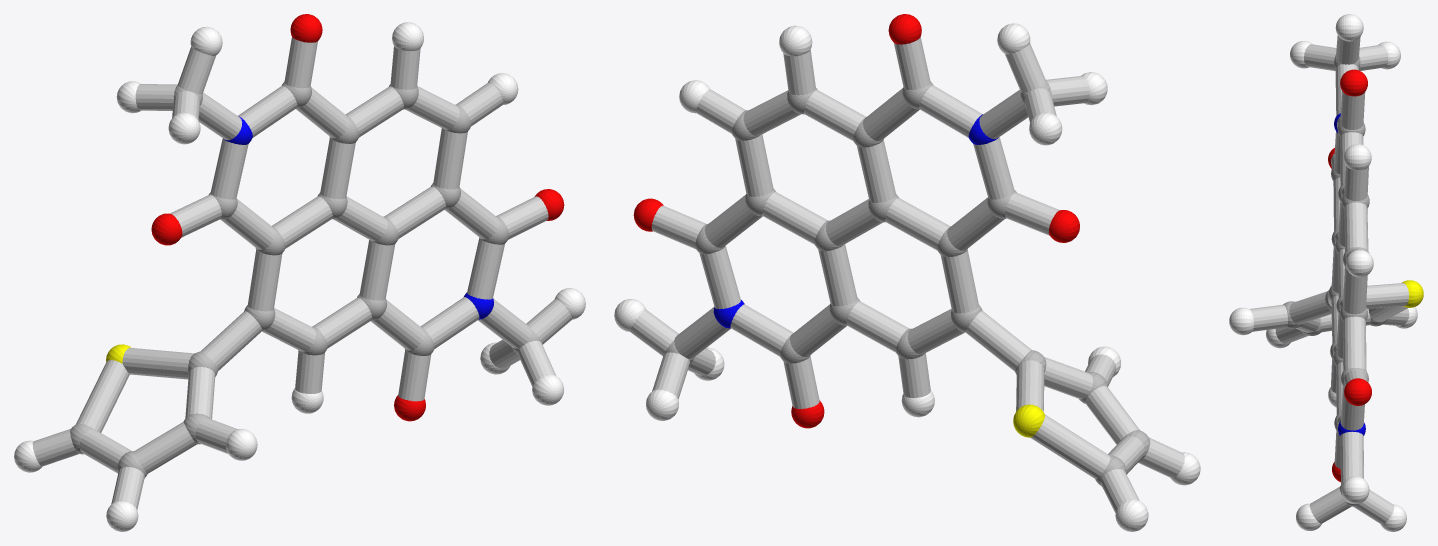
Rendered from Dimethyl_Naphthalene_Dicarboximide_Phi_5_Theta_260_Thiophene.glb.
3 renders of one model, left to right at view 1: azimuth 30°, elevation 25°; view 2: azimuth 150°, elevation 25°; view 3: azimuth 270°, elevation 25°, orthographic. The views are drawn at different scales.
Visible parts, largest first — view 1: grp14119, grp7241, grp1, grp12309, grp11585; view 2: grp14119, grp7241, grp1, grp12309, grp13757, grp11585; view 3: grp14119, grp7241, grp1, grp12309, grp13757.
Boxes of the visible parts, x1,y1,x2,y2 form: grp14119: (32,37,572,509); grp7241: (14,22,585,531); grp1: (70,81,540,478); grp12309: (151,14,564,421); grp11585: (223,116,493,319); grp14119: (630,37,1184,512); grp7241: (614,23,1200,531); grp1: (665,81,1150,486); grp12309: (633,14,1079,428); grp13757: (1013,404,1044,437); grp11585: (713,114,998,328); grp14119: (1250,35,1409,524); grp7241: (1229,14,1417,531); grp1: (1283,55,1387,506); grp12309: (1328,69,1371,482); grp13757: (1402,280,1423,307).
Size of the model in its own units: 11.63 by 9.11 by 4.18.
